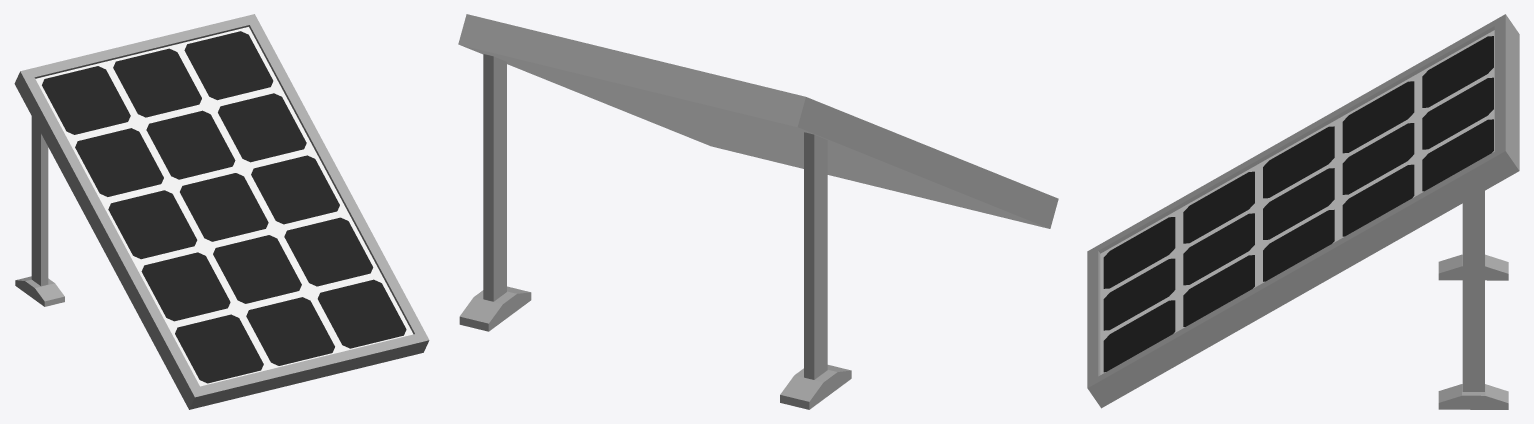
File: solar-panel-ground.glb
3 renders of one model, left to right at view 1: azimuth 30°, elevation 25°; view 2: azimuth 150°, elevation 25°; view 3: azimuth 270°, elevation 25°, orthographic. The views are drawn at different scales.
Visible parts, largest first — view 1: SolarPanel_Ground; view 2: SolarPanel_Ground; view 3: SolarPanel_Ground.
Part boxes in pixels (<box>): SolarPanel_Ground: <box>14,14,429,409</box>; SolarPanel_Ground: <box>458,14,1058,409</box>; SolarPanel_Ground: <box>1087,14,1519,409</box>.
Bounding box in the file's own units: 1.29 × 1.1 × 1.67.
1 material, 1 textured.
